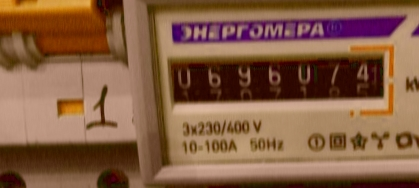0: (174, 64, 193, 88), (296, 59, 312, 84)
4: (354, 58, 370, 80)
5: (355, 83, 372, 98)
6: (267, 60, 284, 86), (206, 63, 223, 87)
7: (326, 60, 343, 85)
9: (236, 61, 252, 88)
screen: (158, 40, 399, 114)
